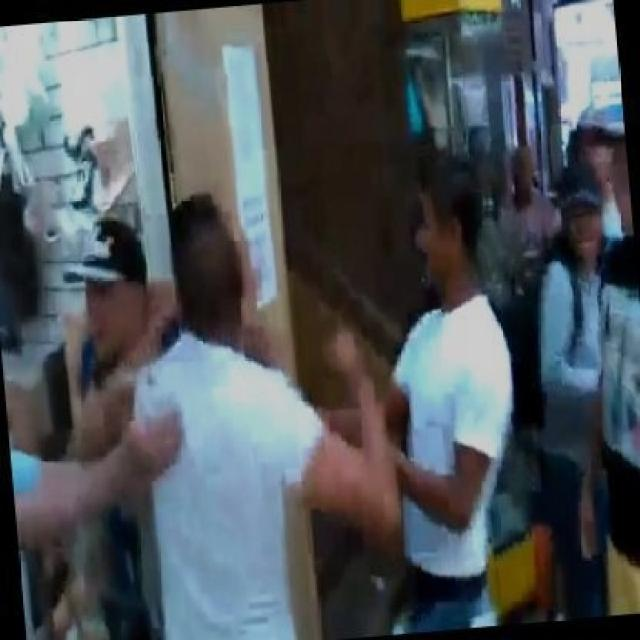fight: (98, 158, 570, 638)
